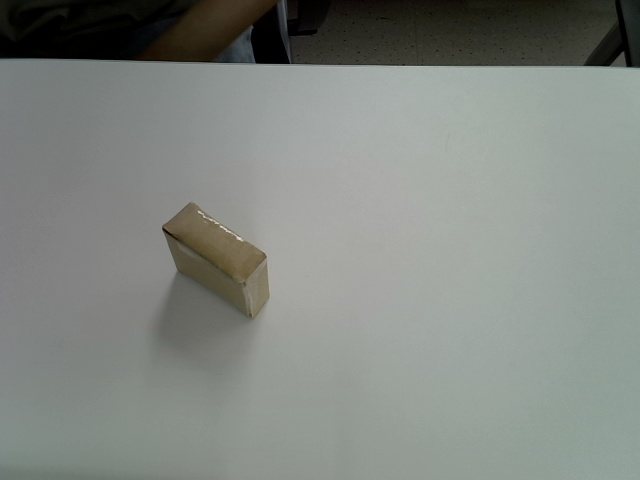normal: (162, 201, 270, 318)
